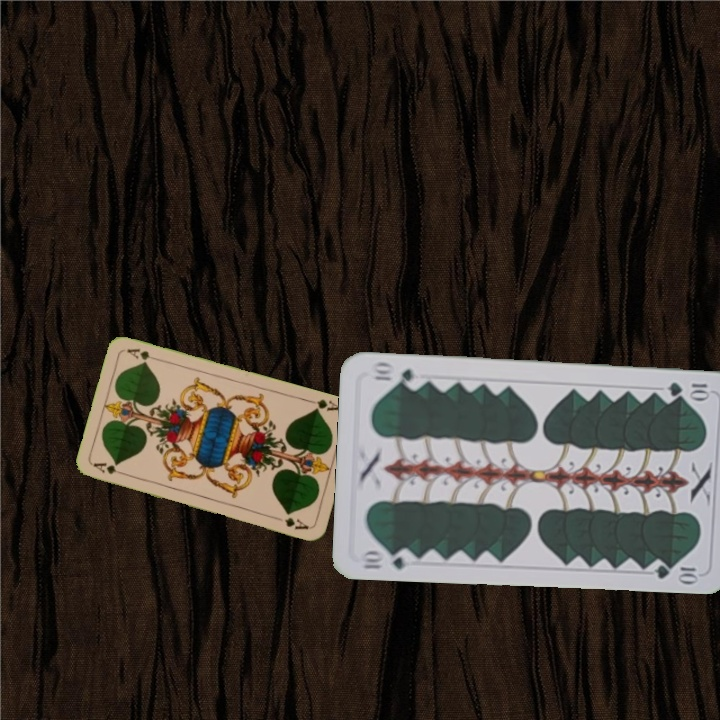G10: (357, 545, 416, 572), (664, 378, 713, 400)
GA: (303, 395, 344, 414), (89, 459, 129, 478)
